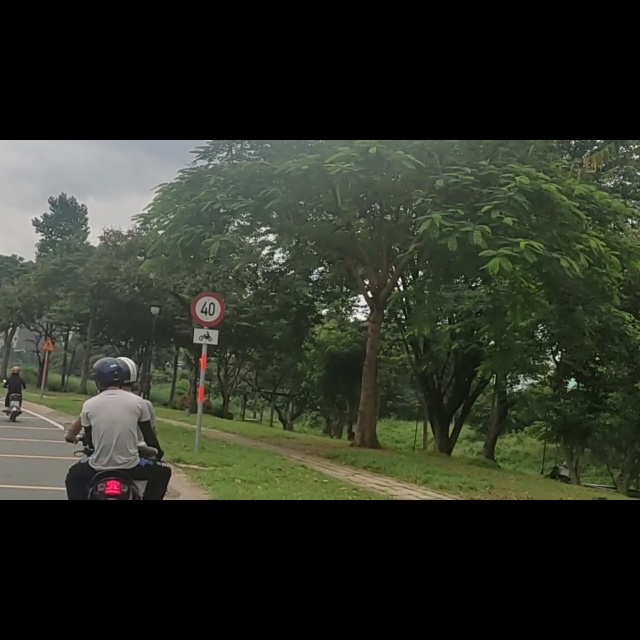bien_nguy_hiem: (191, 270, 225, 333), (41, 350, 56, 376)
